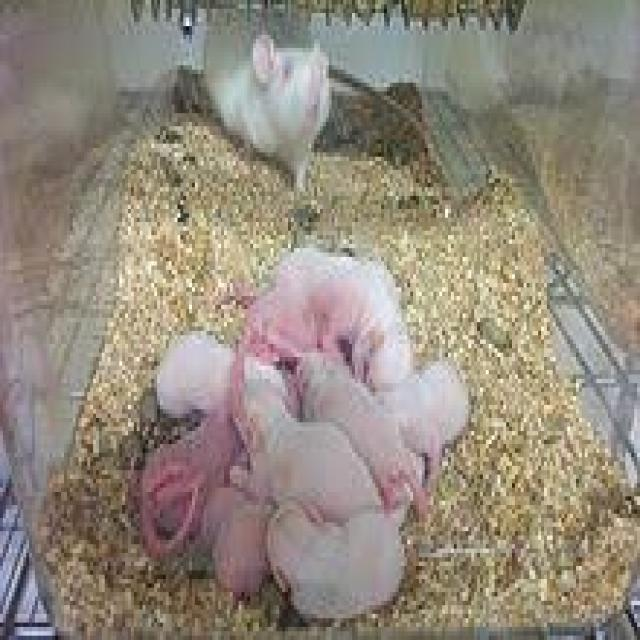rat: (137, 240, 468, 618)
